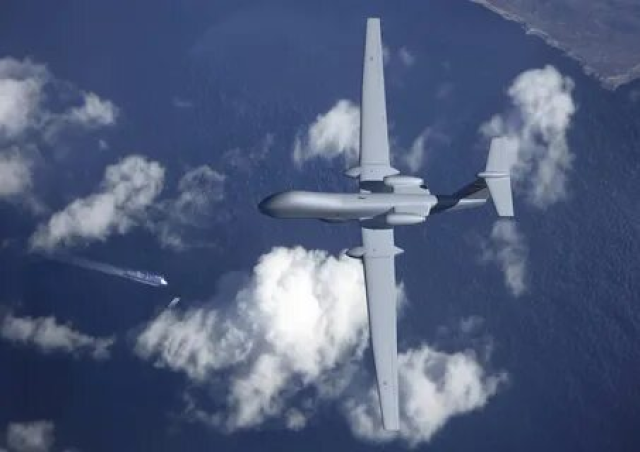military drone: (258, 17, 513, 430)
